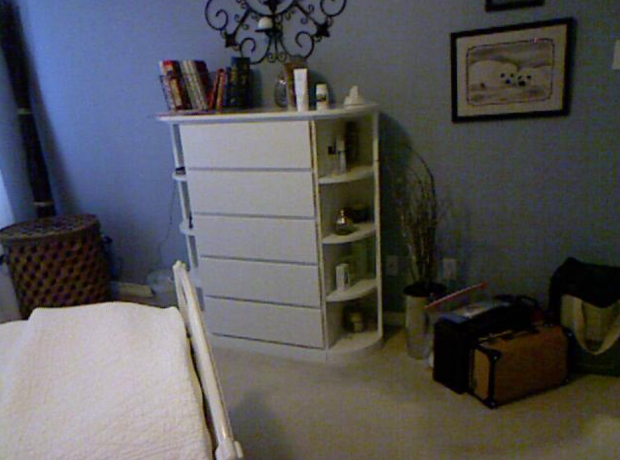cabinet: (156, 103, 379, 361)
cabinetDoor: (189, 172, 309, 214), (186, 126, 306, 167), (194, 223, 314, 257), (203, 265, 318, 295), (213, 309, 320, 334)
